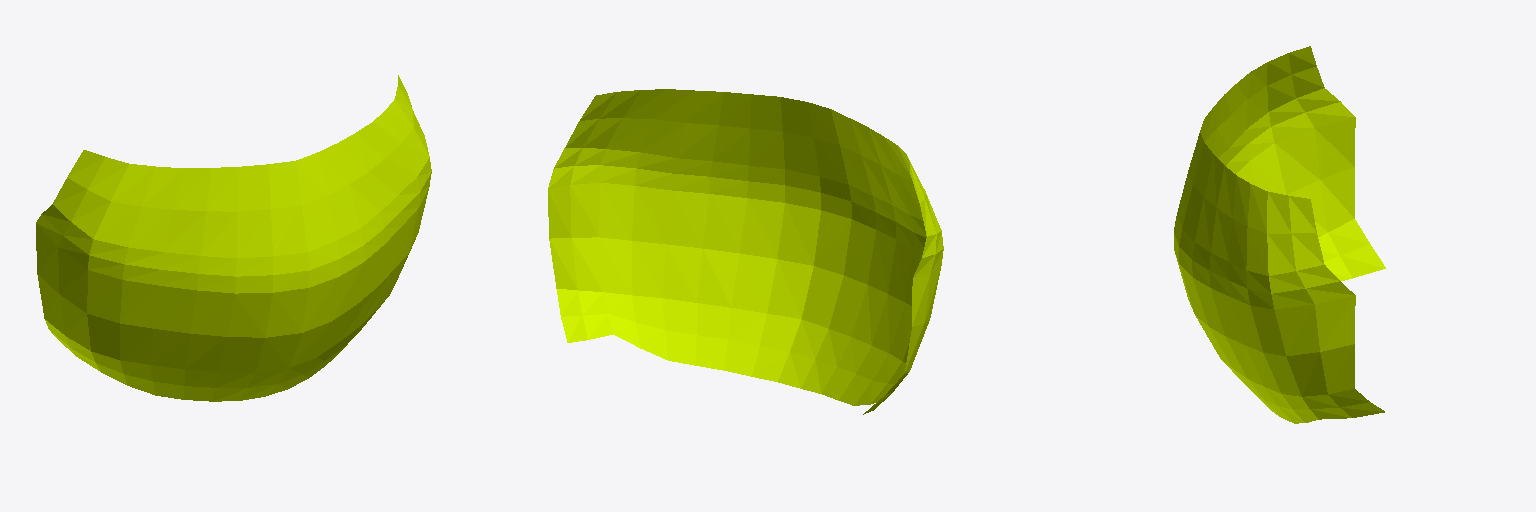
The model's file is Visor.obj.
3 views of the same model, side by side, from view 1: azimuth 30°, elevation 25°; view 2: azimuth 150°, elevation 25°; view 3: azimuth 270°, elevation 25° (orthographic).
Visible parts, largest first — view 1: Visor_Cube.5762; view 2: Visor_Cube.5762; view 3: Visor_Cube.5762.
Boxes of the visible parts, box(x1,y1,x2,y2) form: Visor_Cube.5762: box(36, 75, 431, 401); Visor_Cube.5762: box(548, 89, 943, 414); Visor_Cube.5762: box(1174, 46, 1385, 423).
Bounding box in the file's own units: 0.844 × 0.5848 × 0.4226.